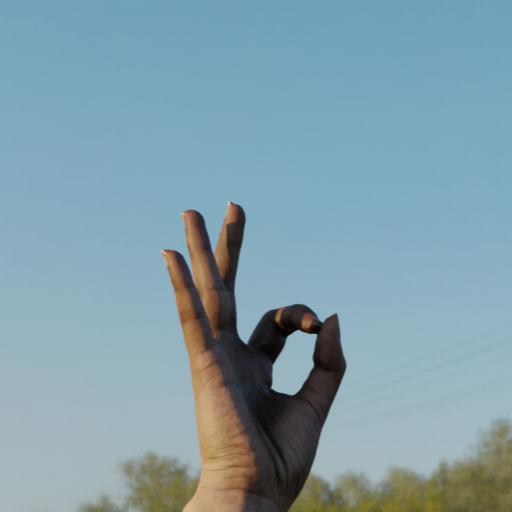F: (160, 194, 352, 504)
